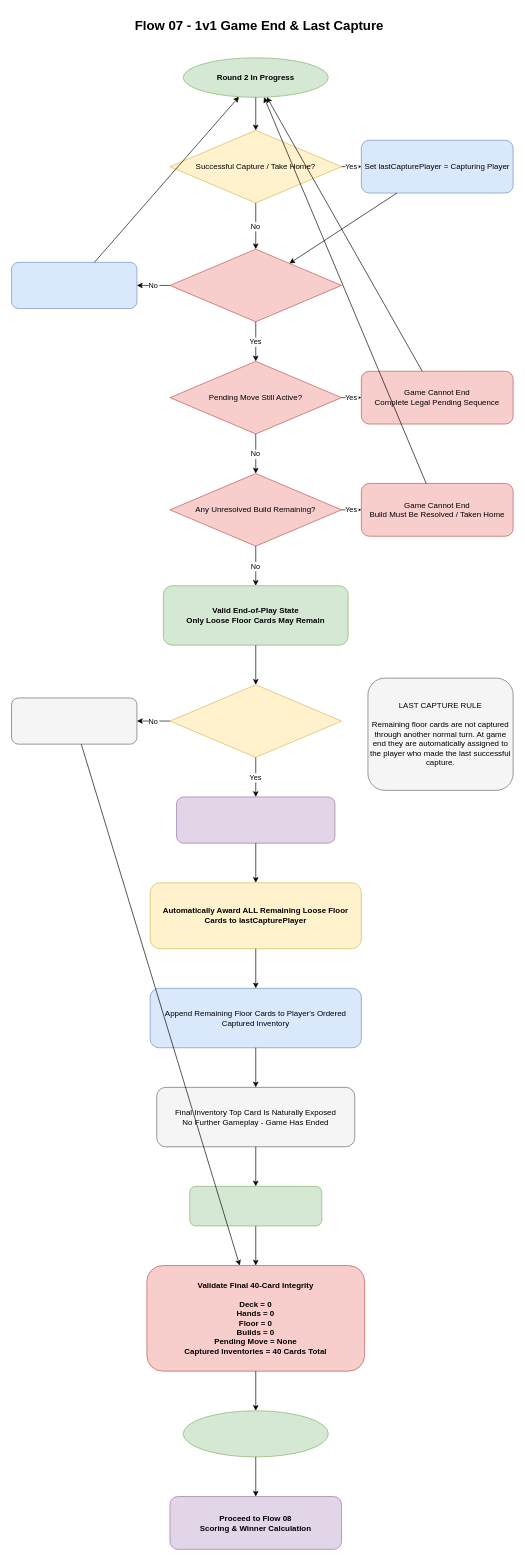
Some shapes in this 525 by 1561 pixel diagram are drawn without their labels. Each missing label, with the box of its shape:
Any Loose Cards Remaining on Floor?: (169, 684, 342, 757)
Are Both Players' Hands Empty?: (169, 248, 342, 322)
Continue Round 2: (11, 262, 137, 309)
Floor = Empty: (189, 1186, 322, 1226)
GAMEPLAY COMPLETE: (182, 1410, 328, 1457)
Identify lastCapturePlayer: (176, 796, 335, 843)
No Floor Cards to Award: (11, 697, 137, 744)
